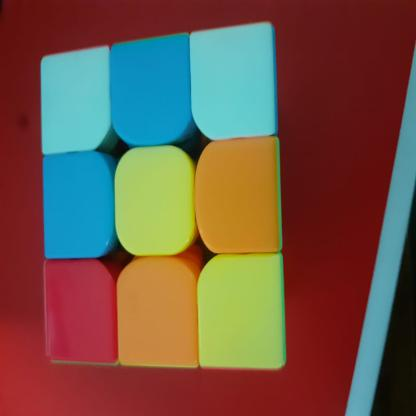cube: (36, 17, 290, 376)
